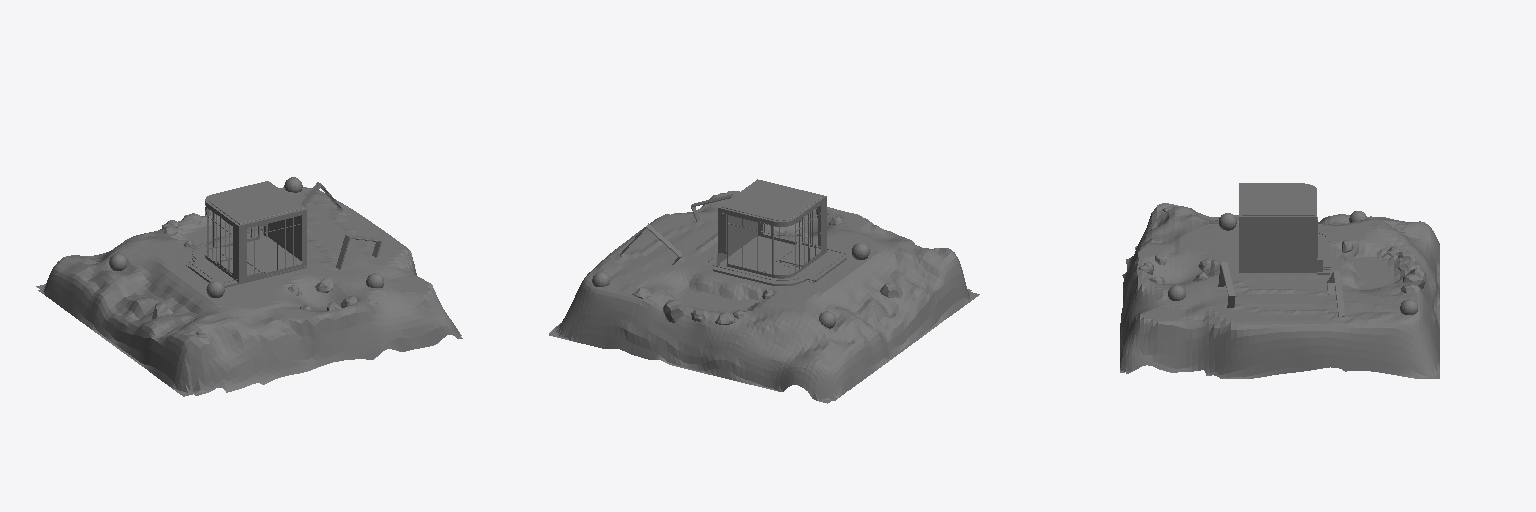
The model's file is welcomespace.obj.
The picture shows the model from 3 angles: view 1: azimuth 30°, elevation 25°; view 2: azimuth 150°, elevation 25°; view 3: azimuth 270°, elevation 25°; orthographic projection.
Visible parts, largest first — view 1: insideWoodFloor4; view 2: insideWoodFloor4; view 3: insideWoodFloor4.
Boxes of the visible parts, x1=… form: insideWoodFloor4: x1=36, y1=177, x2=462, y2=396; insideWoodFloor4: x1=549, y1=179, x2=979, y2=403; insideWoodFloor4: x1=1120, y1=183, x2=1439, y2=378.
Size of the model in its own units: 60.66 by 22.31 by 59.02.